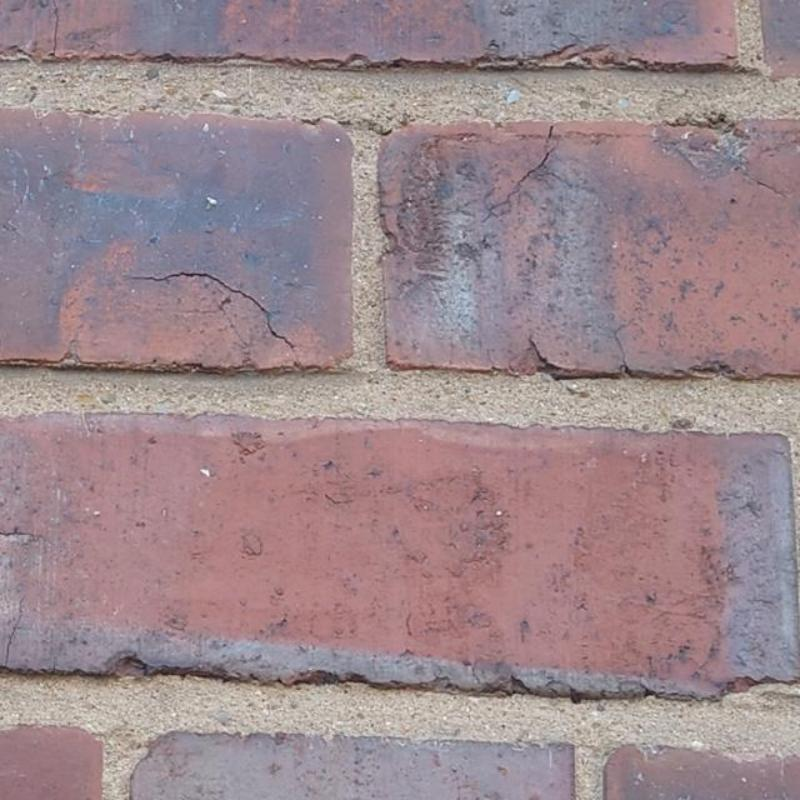pothole: (132, 271, 295, 353), (481, 122, 562, 222), (4, 595, 25, 669), (614, 316, 635, 374), (50, 0, 59, 62)
